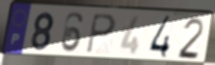2: (177, 17, 206, 61)
4: (148, 14, 173, 61), (118, 15, 142, 57)
6: (60, 11, 86, 55)
8: (30, 11, 55, 52)
P: (85, 13, 117, 55)
